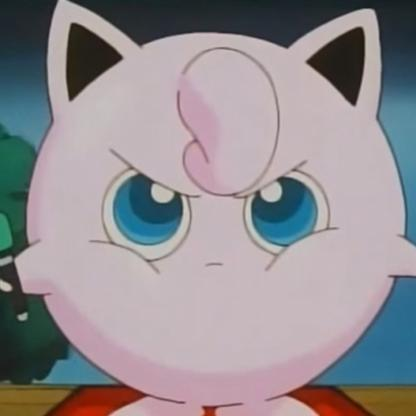Jigglypuff: (31, 1, 416, 416)
